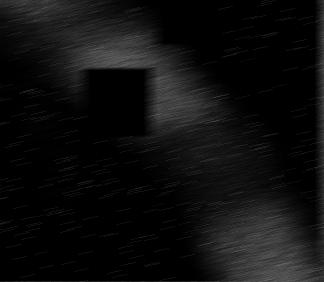Airbag: (0, 0, 324, 282), (320, 0, 324, 282)
